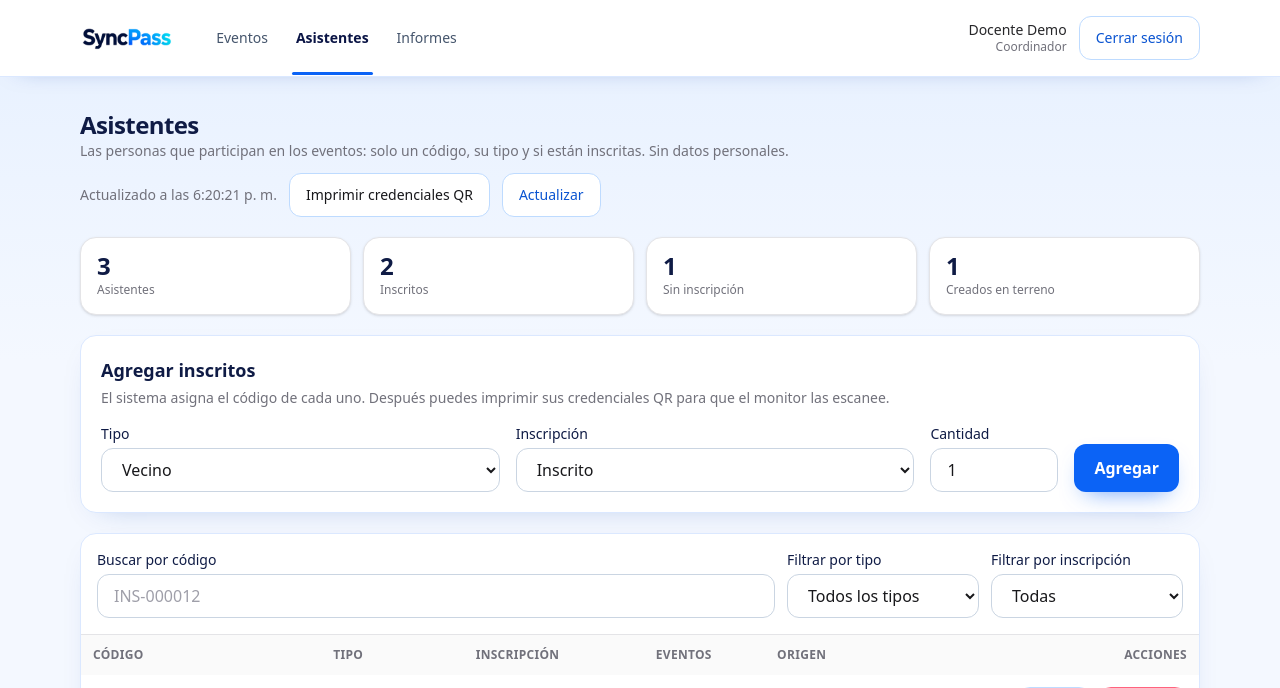
pantalla de asistentes › filtra por código, tipo e inscripción
The width and height of the screenshot is (1280, 688).
Select "Vecino" in the dropdown labelled "Filtrar por tipo" at (883, 596), box left=787, top=574, right=979, bottom=618
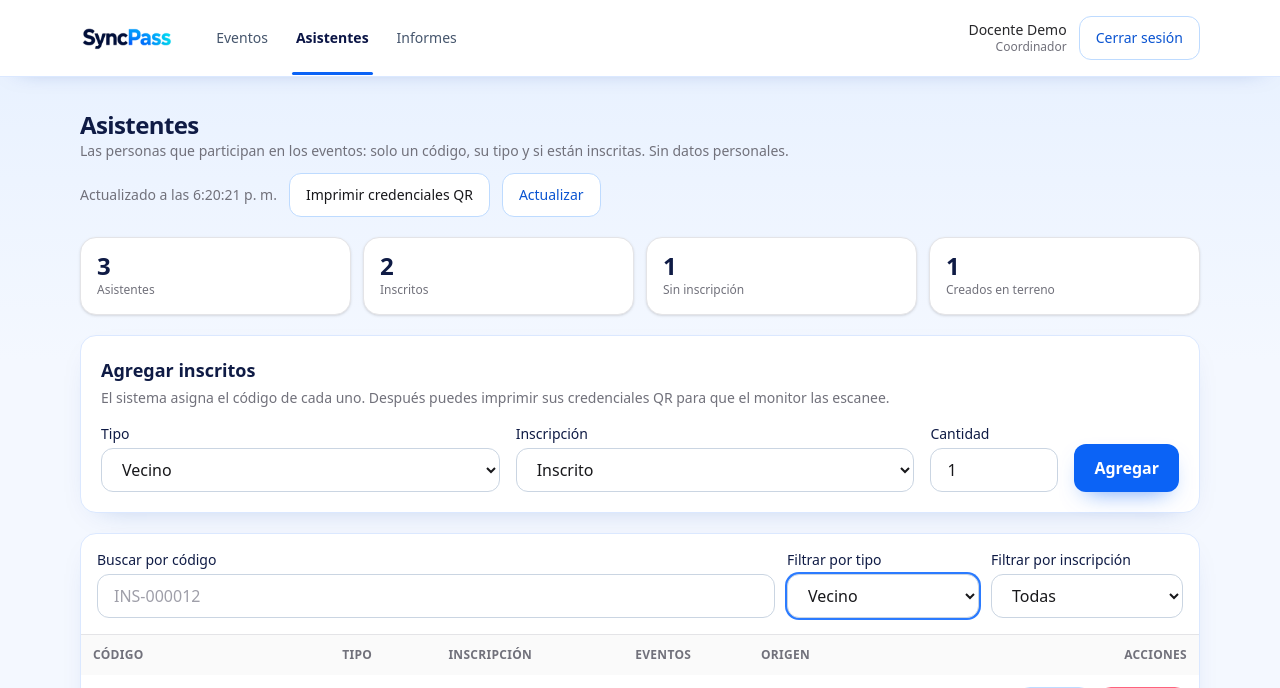
expect the number of rows is 3: met
Select "Sin inscripción" in the dropdown labelled "Filtrar por inscripción" at (1087, 596), box left=991, top=574, right=1183, bottom=618
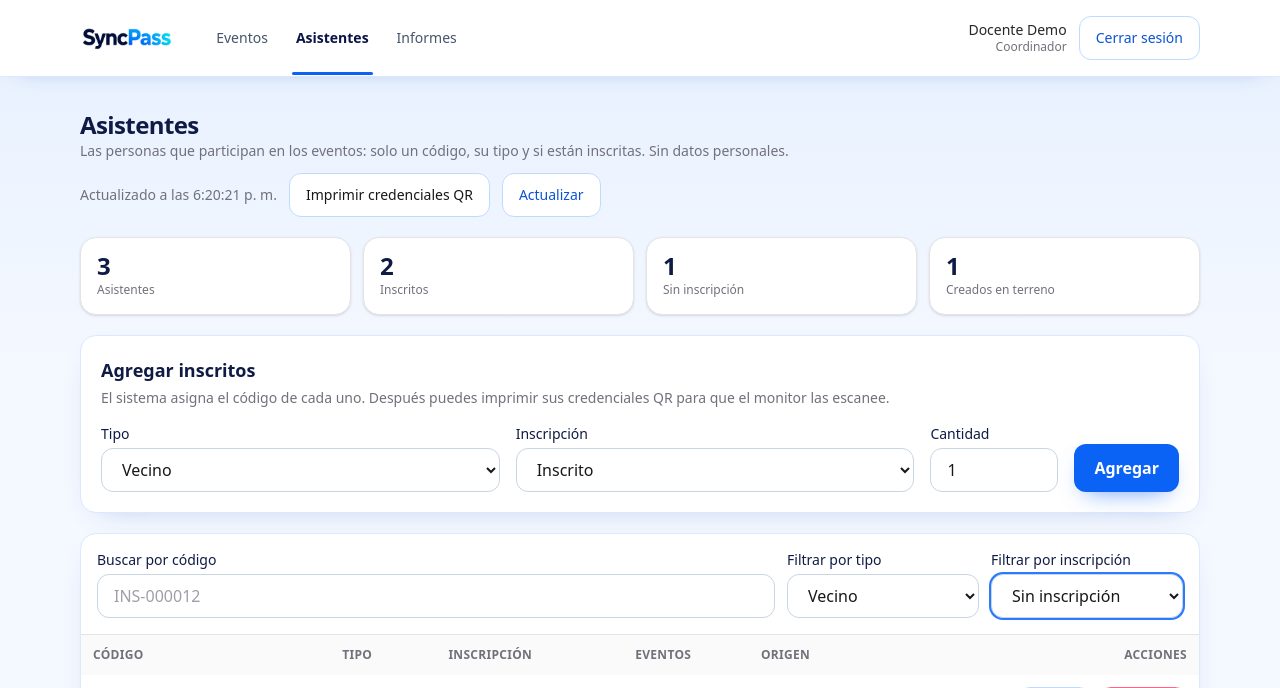
Type "INS-" into the field labelled "Buscar por código" at (436, 596), box left=97, top=574, right=775, bottom=618
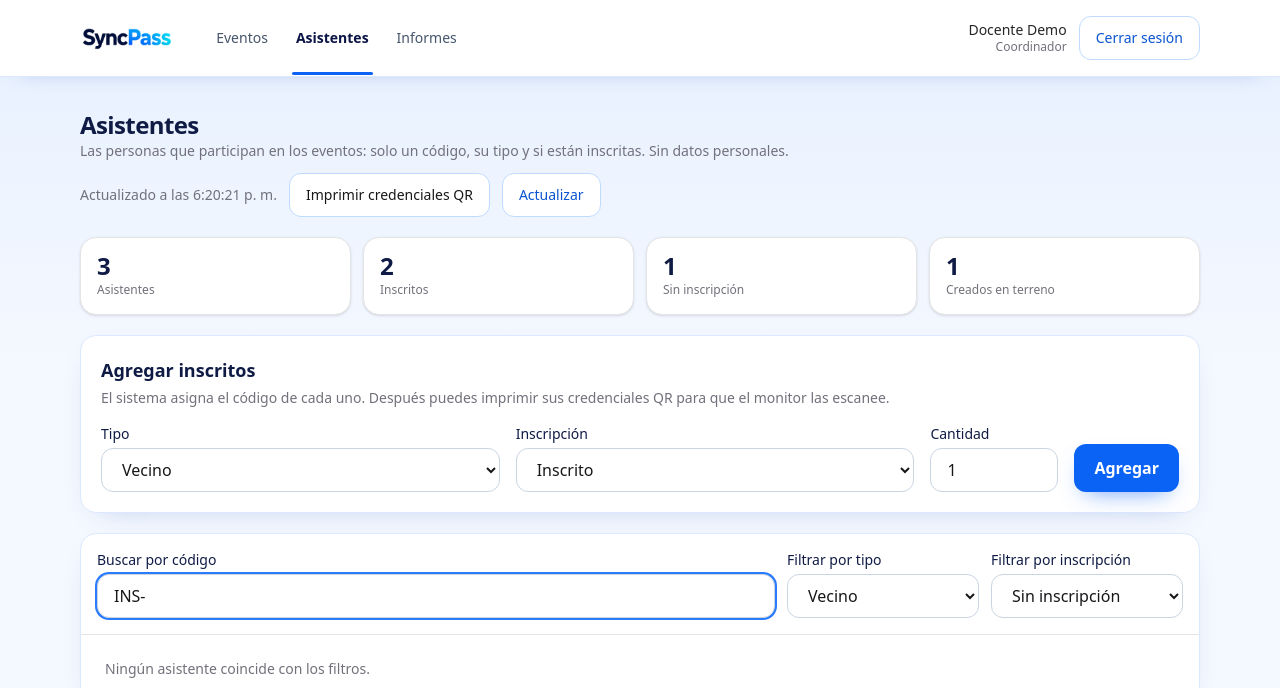
expect the text "Ningún asistente coincide con los filtros." is shown: met, box left=105, top=659, right=370, bottom=678
